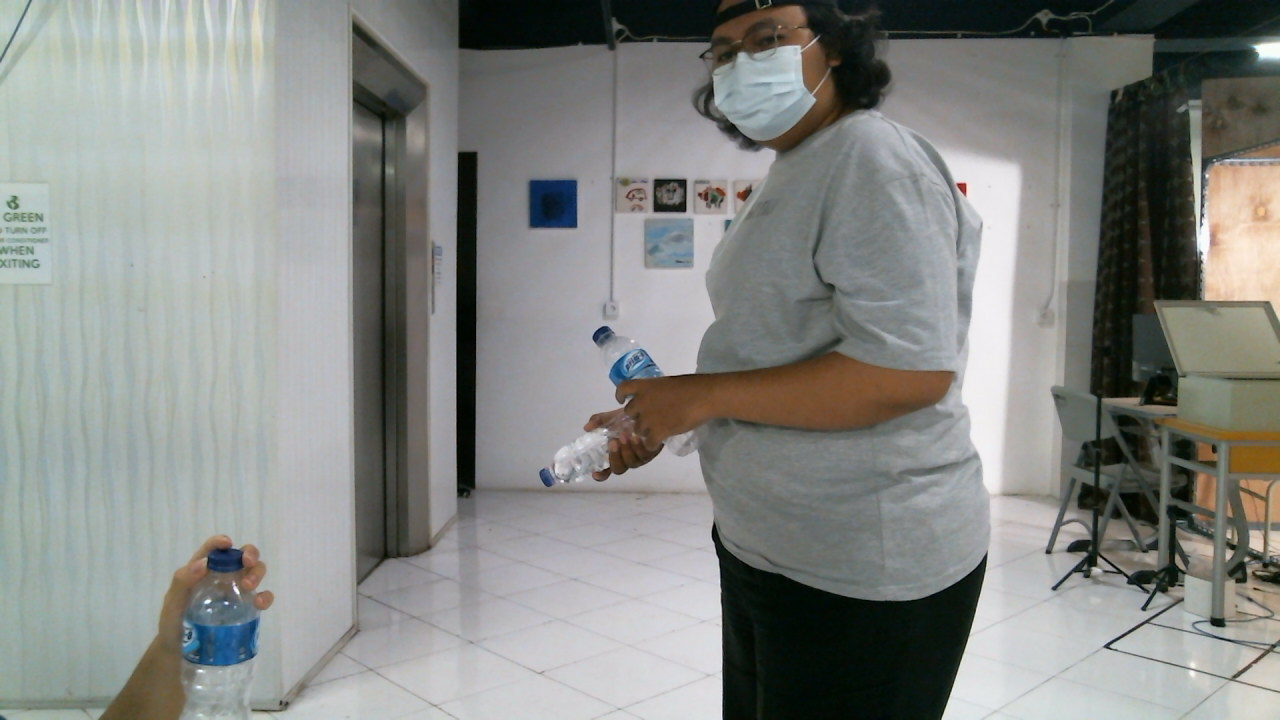Bottle: (590, 327, 709, 457), (182, 547, 262, 720)
